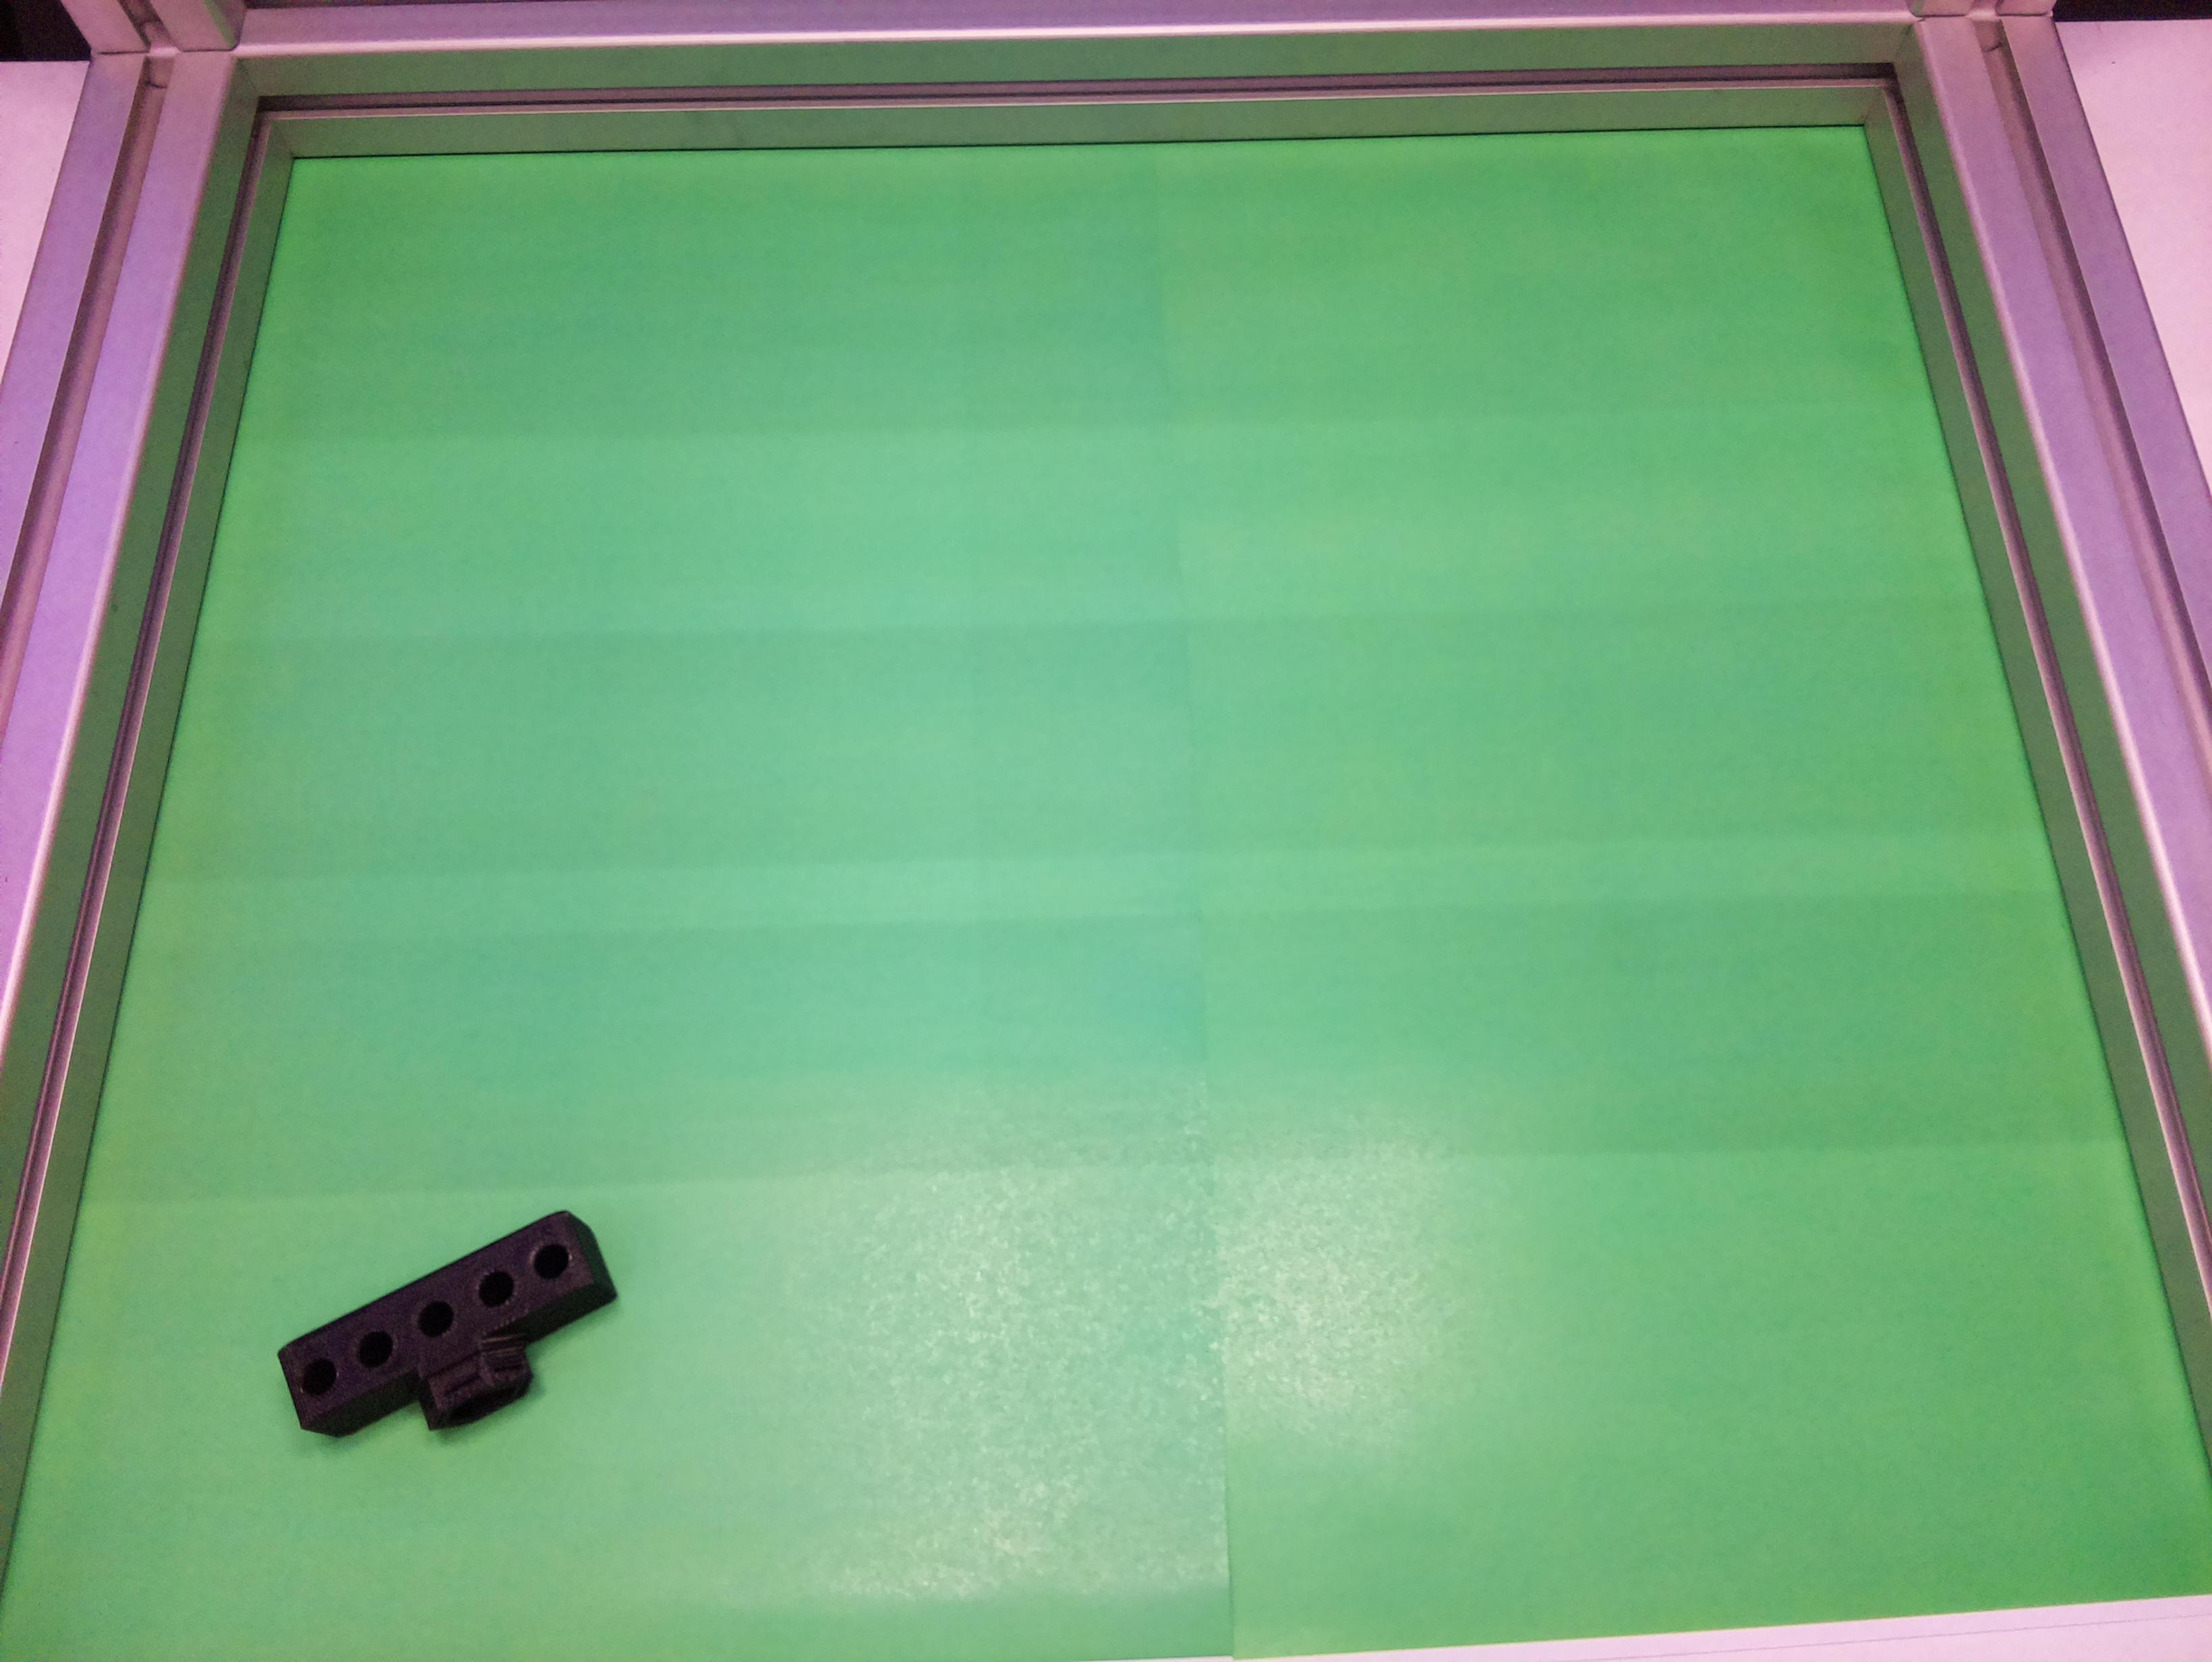bit_holder: (264, 1196, 644, 1493)
